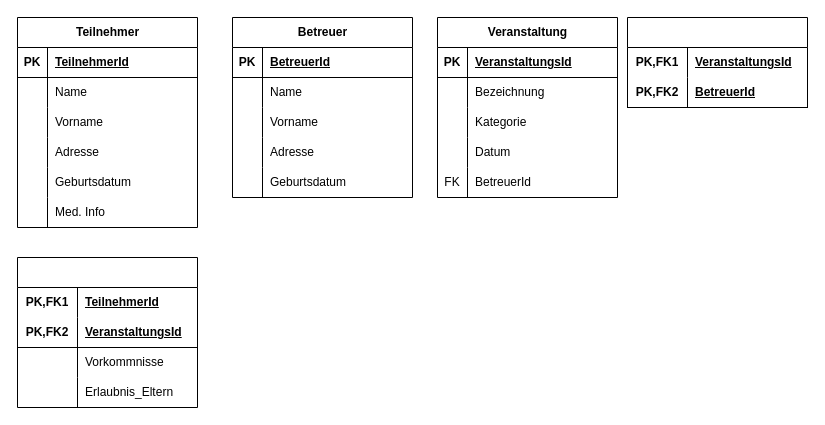
The diagram is 825 pixels wide and 425 high, and some of its shapes have lost their labels. Each missing label, with the box of its shape:
Teilnehmer_Veranstaltung: (16, 256, 198, 408)
Veranstaltung_Betreuer: (626, 16, 808, 108)
